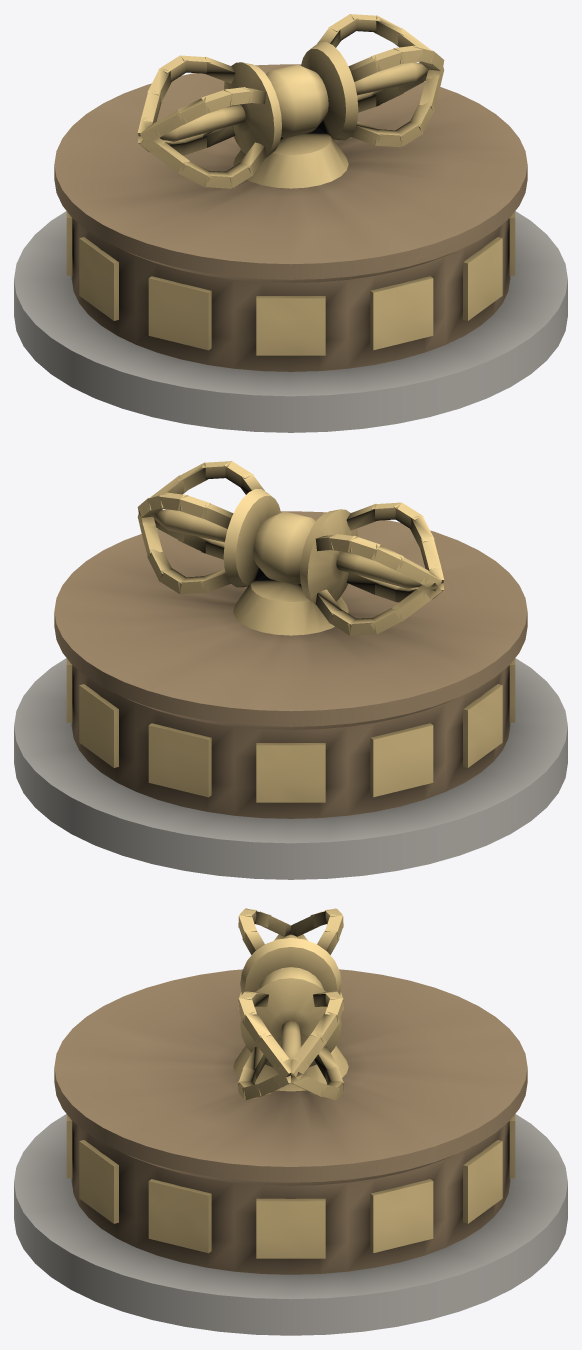
The model's file is swayambhu-vajra.glb.
3 renders of one model, top to bottom at view 1: azimuth 30°, elevation 25°; view 2: azimuth 150°, elevation 25°; view 3: azimuth 270°, elevation 25°, orthographic.
Visible parts, largest first — view 1: model-bronze, model-gold, model-stone; view 2: model-bronze, model-gold, model-stone; view 3: model-bronze, model-stone, model-gold.
Boxes of the visible parts, left/top/right/bottom form: model-bronze: left=54, top=64, right=527, bottom=371; model-gold: left=66, top=14, right=515, bottom=355; model-stone: left=14, top=211, right=567, bottom=432; model-bronze: left=54, top=511, right=527, bottom=818; model-gold: left=66, top=461, right=515, bottom=802; model-stone: left=14, top=658, right=567, bottom=879; model-bronze: left=54, top=969, right=527, bottom=1274; model-stone: left=14, top=1114, right=567, bottom=1335; model-gold: left=66, top=908, right=515, bottom=1258.
Size of the model in its own units: 4.8 by 2.5 by 4.8.
